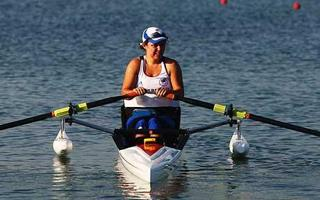person: (122, 27, 186, 147)
